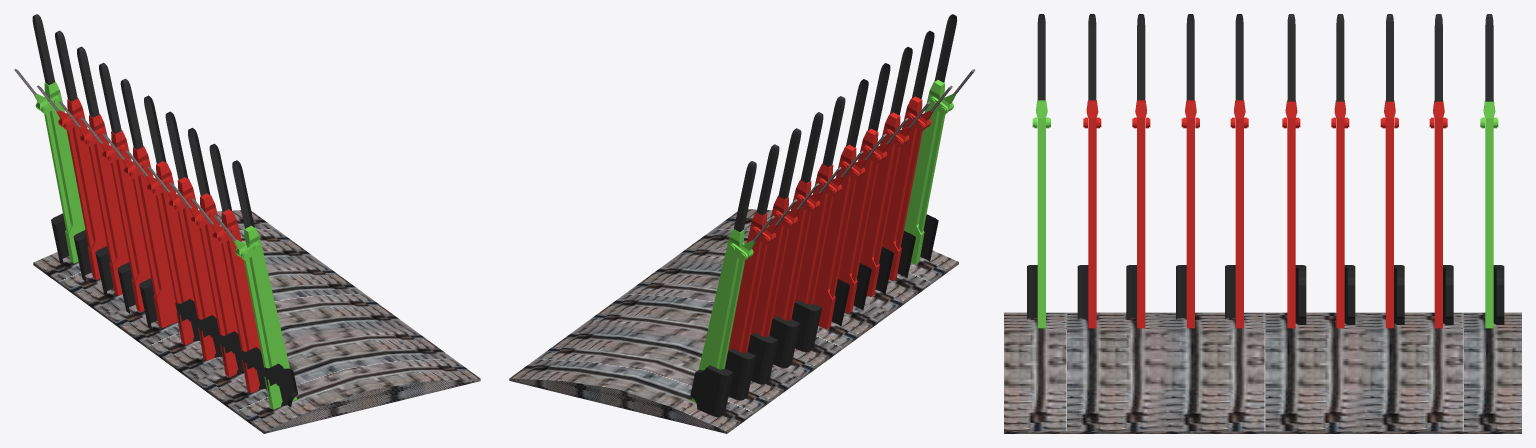
Rendered from signal_box_levers.glb.
3 renders of one model, left to right at view 1: azimuth 30°, elevation 25°; view 2: azimuth 150°, elevation 25°; view 3: azimuth 270°, elevation 25°, orthographic. The views are drawn at different scales.
Parts seen in each view (by area): view 1: Cube.1511; view 2: Cube.1511; view 3: Cube.1511.
Part boxes in pixels (box(x1,y1,x2,y2)): Cube.1511: box(14, 14, 480, 433); Cube.1511: box(509, 14, 975, 433); Cube.1511: box(1004, 14, 1521, 433).
Bounding box in the file's own units: 1.17 × 1.19 × 1.88.
5 materials, 1 textured.
